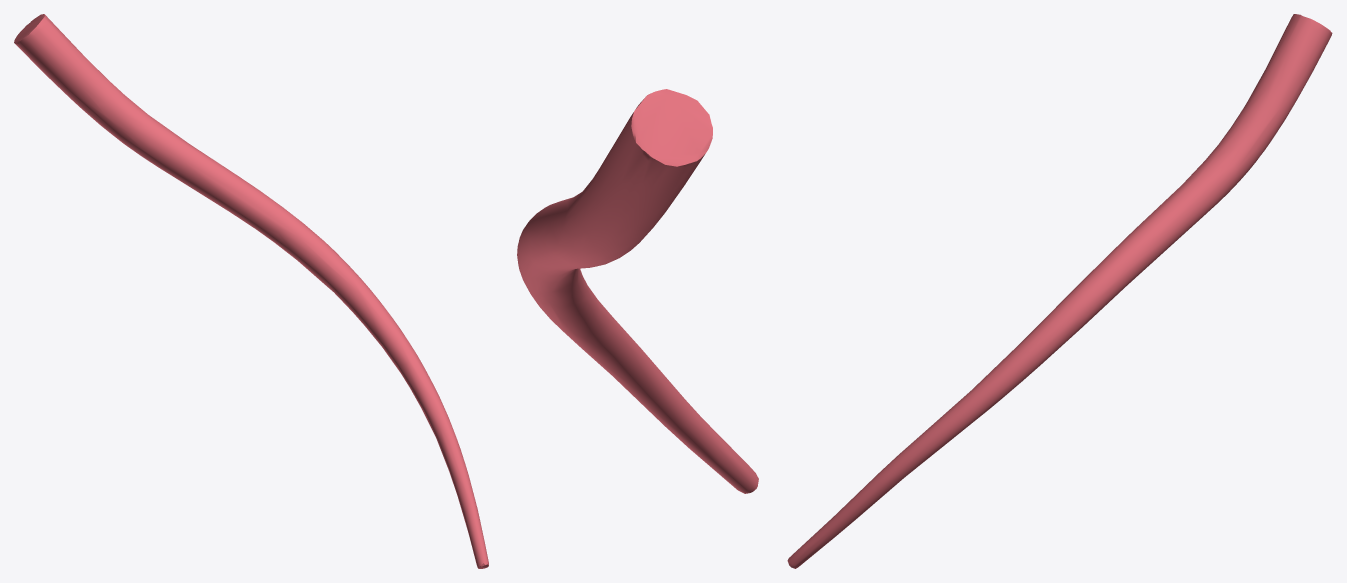
File: fma68137_fj5954.glb
3 views of the same model, side by side, from view 1: azimuth 30°, elevation 25°; view 2: azimuth 150°, elevation 25°; view 3: azimuth 270°, elevation 25° (orthographic). The views are drawn at different scales.
Visible parts, largest first — view 1: FMA68137_FJ5954; view 2: FMA68137_FJ5954; view 3: FMA68137_FJ5954.
Part boxes in pixels (<box>): FMA68137_FJ5954: <box>14,14,488,568</box>; FMA68137_FJ5954: <box>517,89,758,493</box>; FMA68137_FJ5954: <box>787,14,1332,568</box>.
Size of the model in its own units: 0.0432 by 0.0725 by 0.0796.
